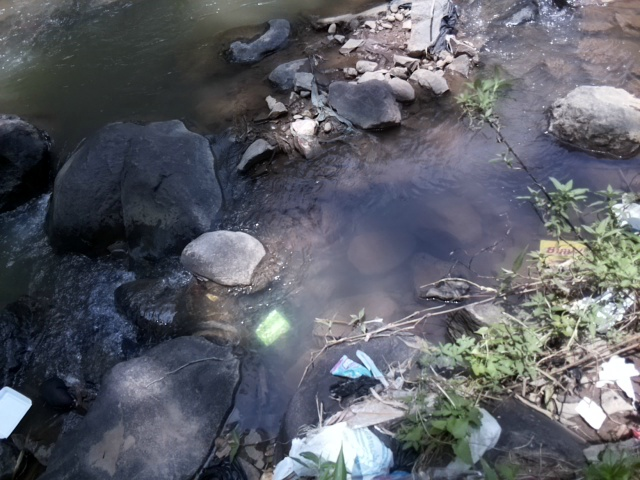Sampah_Styrofoam: (1, 383, 35, 441)
